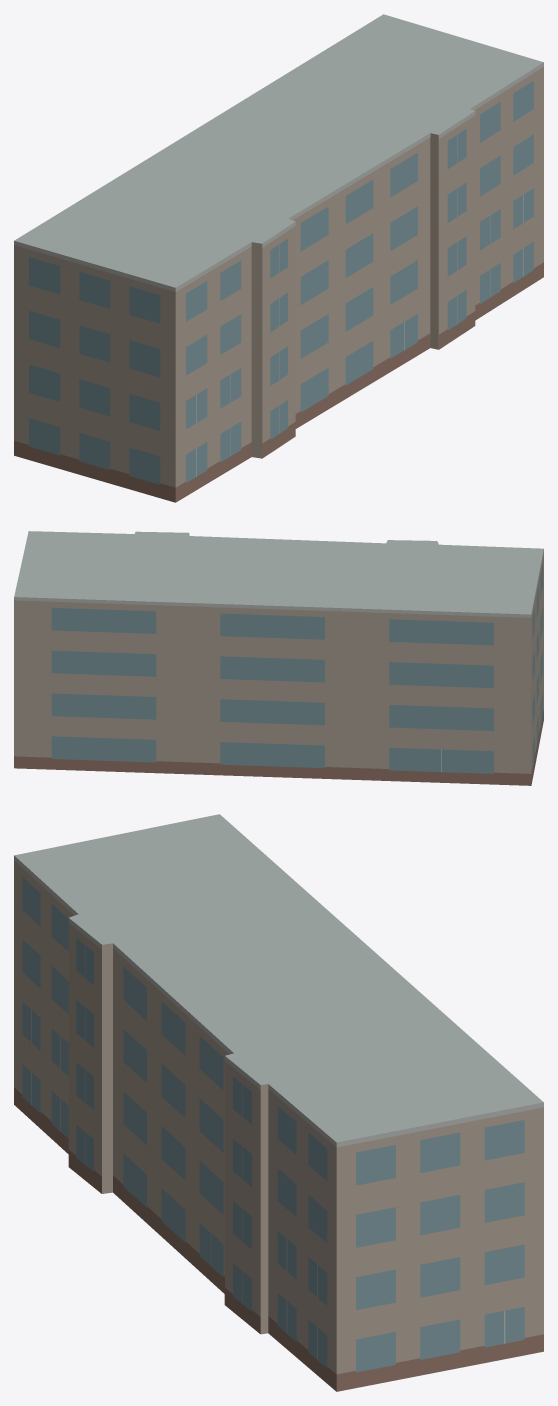
File: survey-upis-32758079.glb
3 renders of one model, top to bottom at view 1: azimuth 30°, elevation 25°; view 2: azimuth 150°, elevation 25°; view 3: azimuth 270°, elevation 25°, orthographic. The views are drawn at different scales.
Parts seen in each view (by area): view 1: survey-upis-32758079.tmp; view 2: survey-upis-32758079.tmp; view 3: survey-upis-32758079.tmp.
Boxes of the visible parts, left/top/right/bottom form: survey-upis-32758079.tmp: left=14, top=14, right=543, bottom=502; survey-upis-32758079.tmp: left=14, top=531, right=543, bottom=785; survey-upis-32758079.tmp: left=14, top=814, right=543, bottom=1391.
Bounding box in the file's own units: 34.48 × 12.2 × 23.51.
